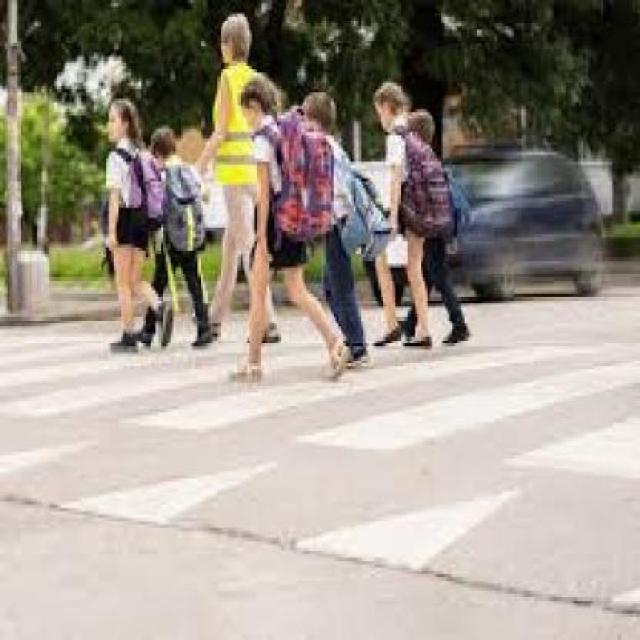sem_oculos: (238, 98, 260, 118), (101, 108, 123, 126), (374, 102, 400, 114), (217, 34, 233, 48), (154, 140, 164, 162)
